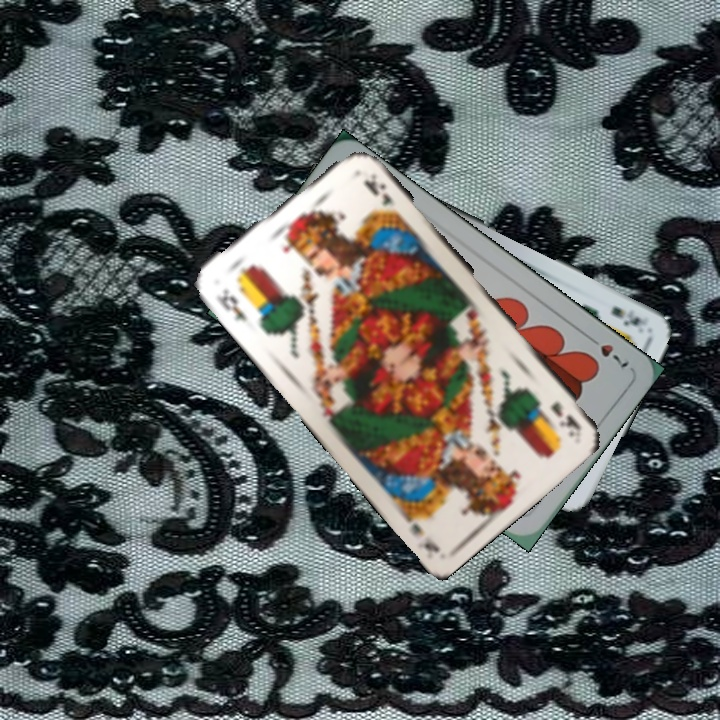EK: (212, 284, 250, 325), (547, 397, 584, 433), (607, 302, 647, 329)
H7: (582, 330, 632, 370)
